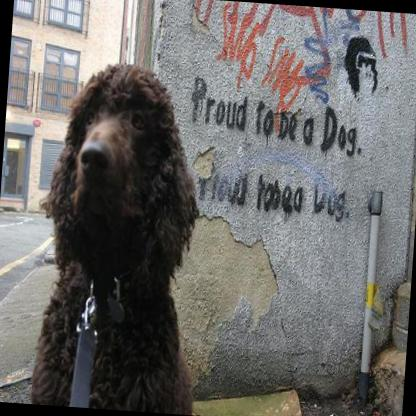Irish_water_spaniel: (24, 59, 214, 413)
